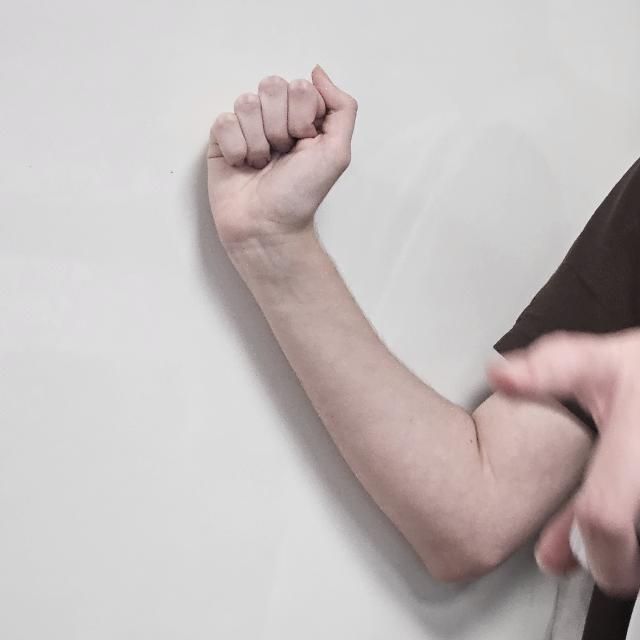Quadro: (202, 61, 364, 253)
